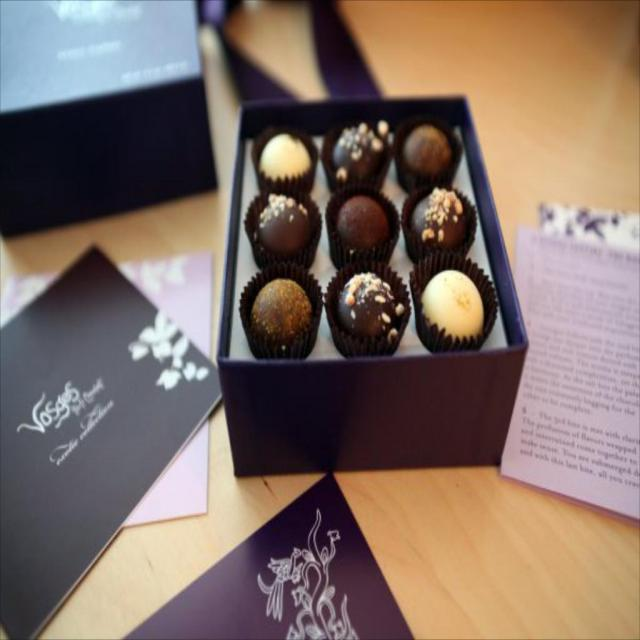Box: (218, 93, 528, 480), (0, 0, 229, 230)
